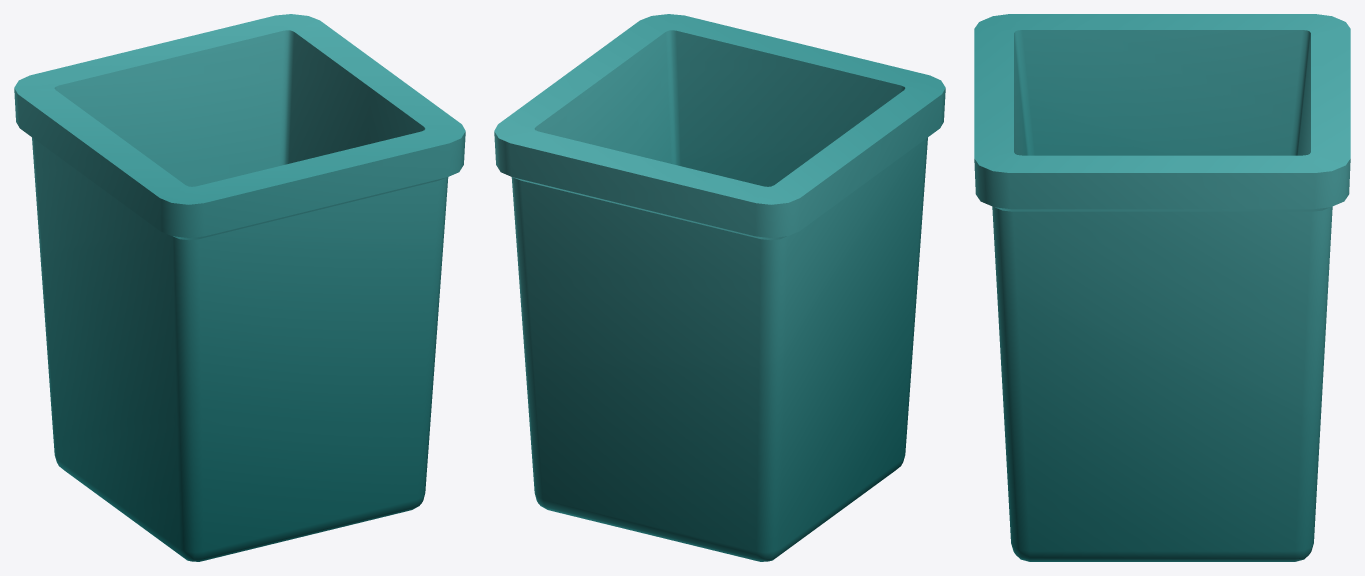
File: Waste Bin_3.fbx
3 views of the same model, side by side, from view 1: azimuth 30°, elevation 25°; view 2: azimuth 150°, elevation 25°; view 3: azimuth 270°, elevation 25° (orthographic). The views are drawn at different scales.
Parts seen in each view (by area): view 1: Waste Bin_3; view 2: Waste Bin_3; view 3: Waste Bin_3.
Part boxes in pixels (x1=…): Waste Bin_3: x1=14, y1=14, x2=465, y2=561; Waste Bin_3: x1=494, y1=14, x2=945, y2=561; Waste Bin_3: x1=974, y1=14, x2=1350, y2=561.
Size of the model in its own units: 0.6333 by 0.764 by 0.6333.
